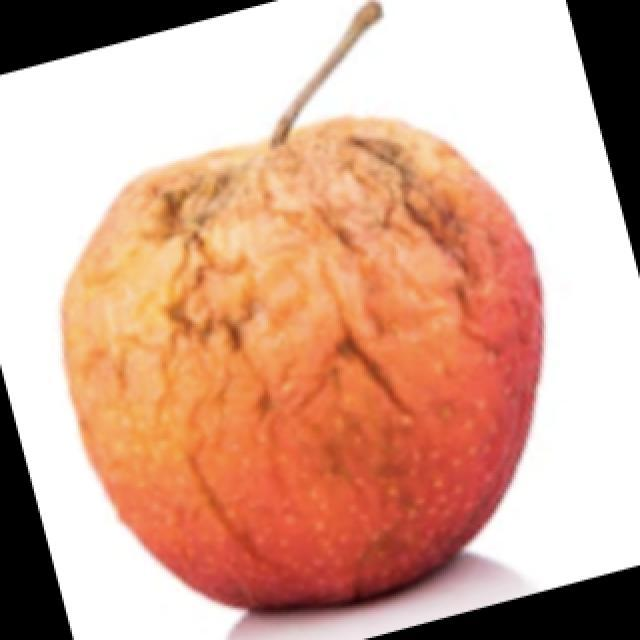Rotten: (58, 130, 550, 602)
